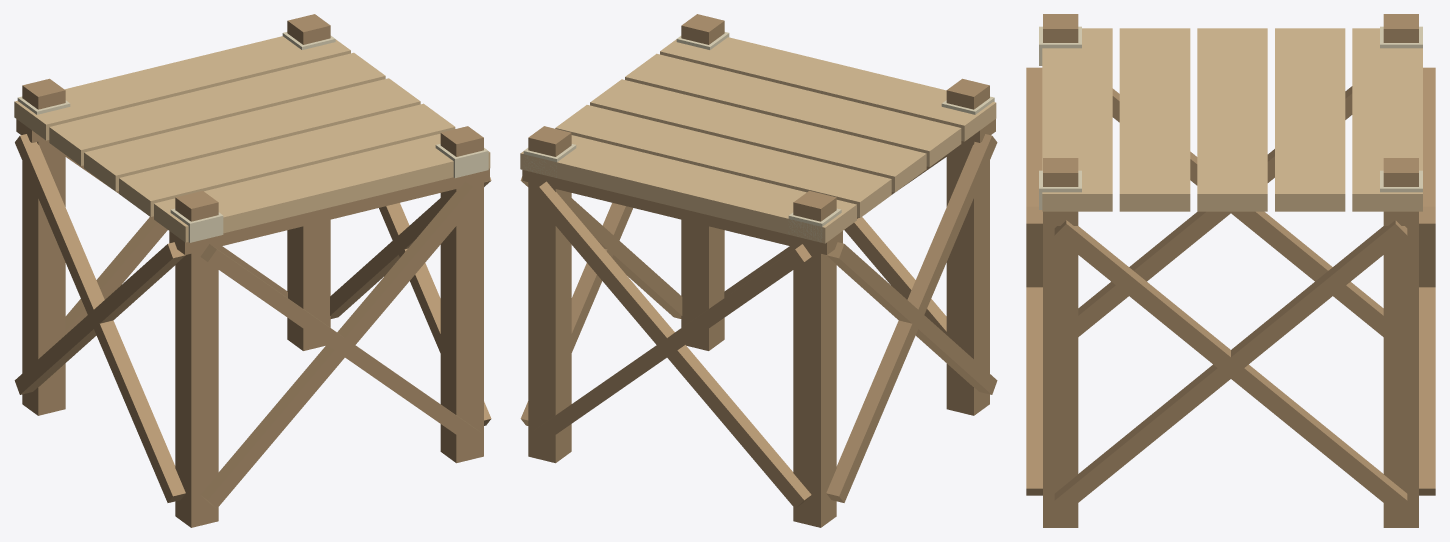
File: scaffold_held.gltf
3 views of the same model, side by side, from view 1: azimuth 30°, elevation 25°; view 2: azimuth 150°, elevation 25°; view 3: azimuth 270°, elevation 25° (orthographic). The views are drawn at different scales.
Visible parts, largest first — view 1: building_scaffold_held; view 2: building_scaffold_held; view 3: building_scaffold_held.
Part boxes in pixels (x1,y1,x2,y2): building_scaffold_held: [14, 14, 491, 527]; building_scaffold_held: [520, 14, 997, 527]; building_scaffold_held: [1026, 14, 1435, 527].
Size of the model in its own units: 0.3135 by 0.3 by 0.3135.
